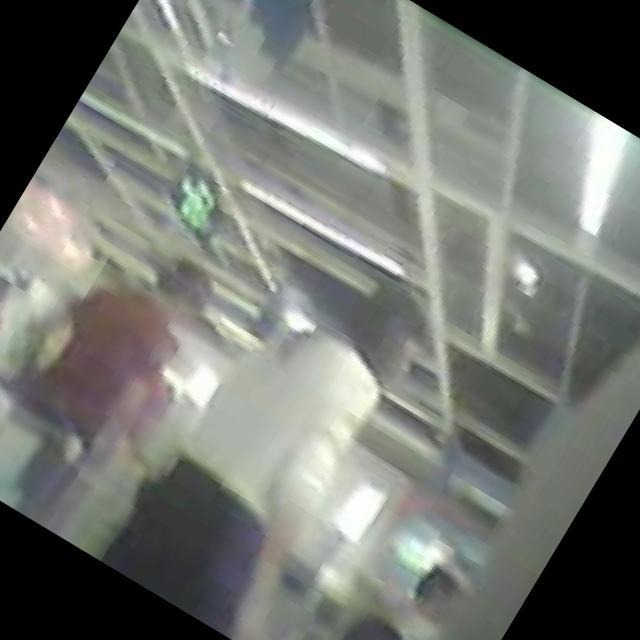person: (103, 222, 454, 640), (22, 222, 228, 454), (307, 598, 439, 640), (0, 260, 28, 373)
